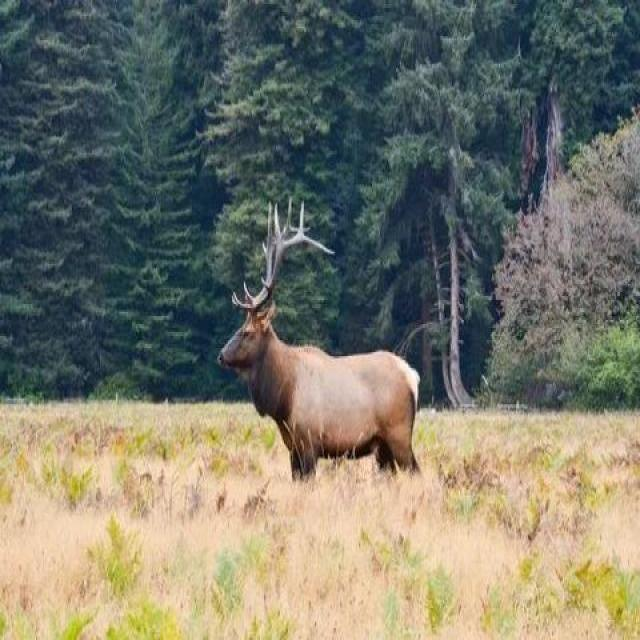deer: (208, 211, 432, 521)
